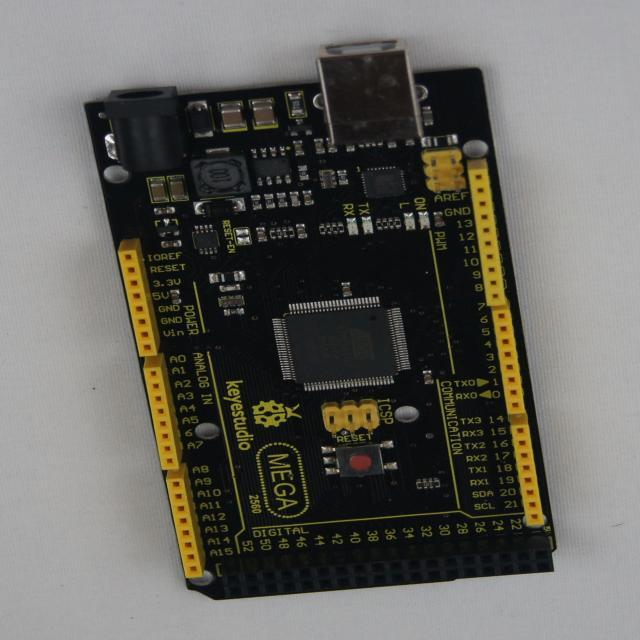Arduino Mega 2560 -Yellow-: (86, 42, 554, 599)
